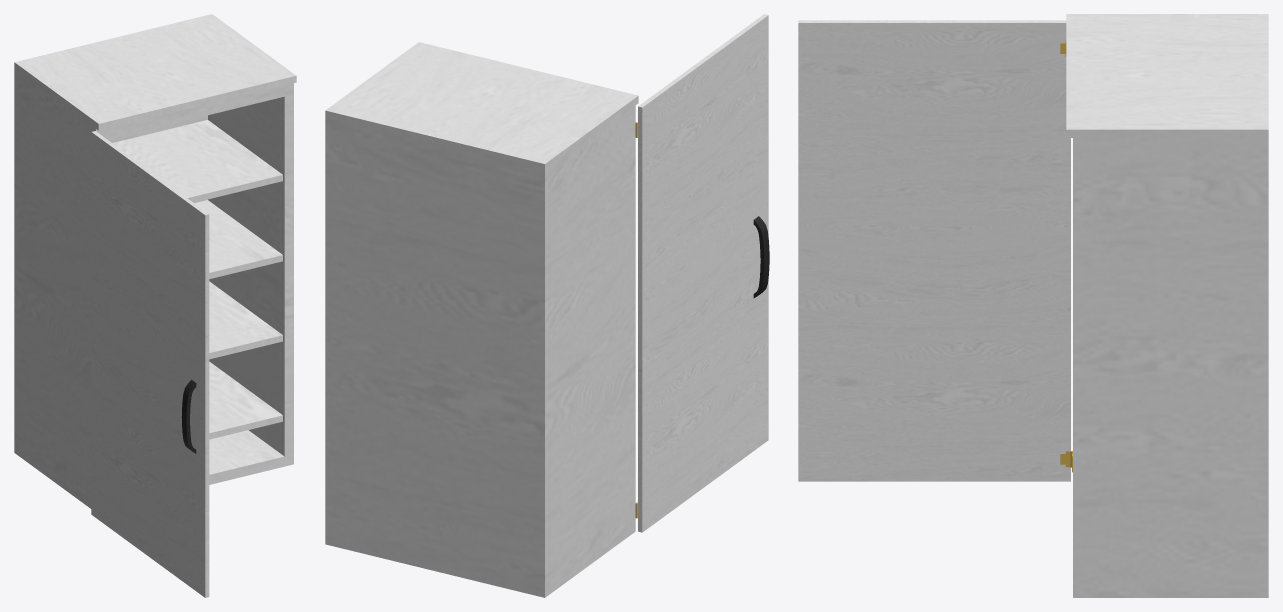
The model's file is Closet43.fbx.
3 renders of one model, left to right at view 1: azimuth 30°, elevation 25°; view 2: azimuth 150°, elevation 25°; view 3: azimuth 270°, elevation 25°, orthographic. The views are drawn at different scales.
Visible parts, largest first — view 1: Closet43, Closet43Door; view 2: Closet43, Closet43Door; view 3: Closet43Door, Closet43.
Boxes of the visible parts, x1,y1,x2,y2 form: Closet43: (14,14,296,508); Closet43Door: (91,131,209,597); Closet43: (325,42,638,597); Closet43Door: (635,14,769,532); Closet43Door: (798,20,1072,481); Closet43: (1066,14,1268,597).
Bounding box in the file's own units: 66.96 × 117 × 107.
